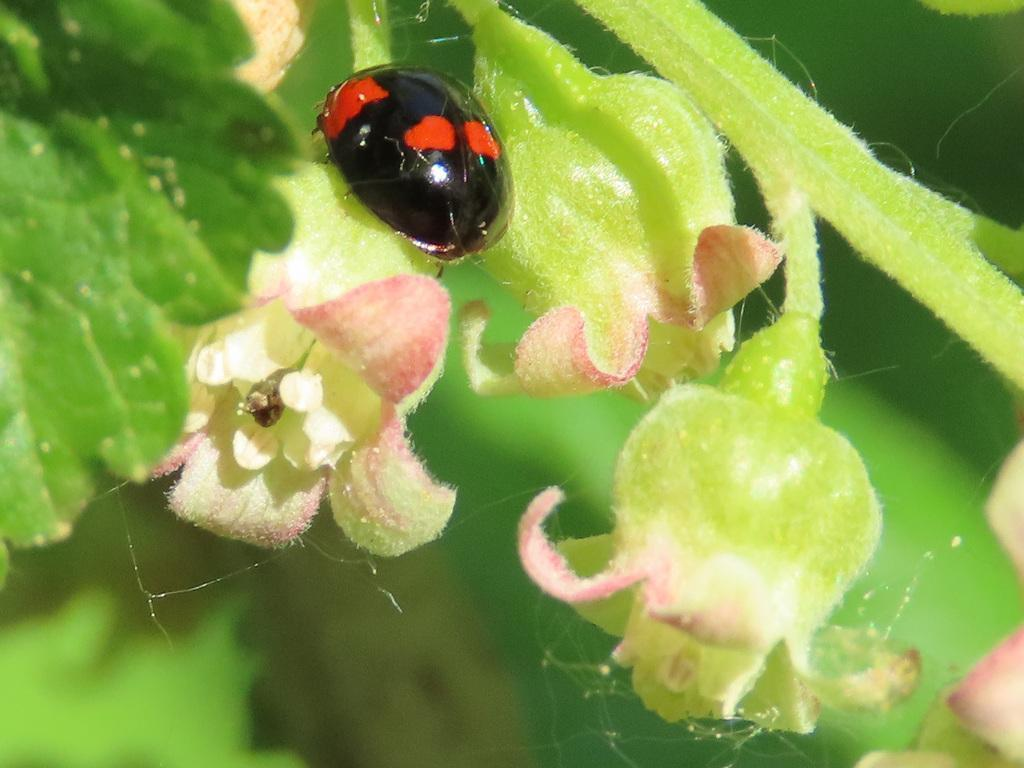ladybug: (309, 61, 521, 283)
